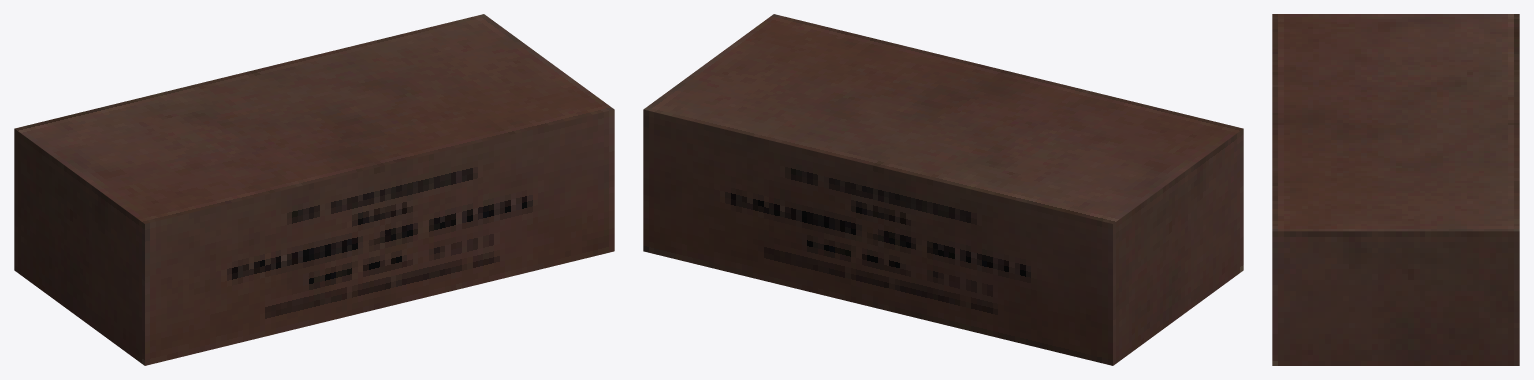
Rendered from ammo_box_mp_1_1.glb.
3 renders of one model, left to right at view 1: azimuth 30°, elevation 25°; view 2: azimuth 150°, elevation 25°; view 3: azimuth 270°, elevation 25°, orthographic. The views are drawn at different scales.
Visible parts, largest first — view 1: ammo_box_mp_1_1; view 2: ammo_box_mp_1_1; view 3: ammo_box_mp_1_1.
Part boxes in pixels (x1,y1,x2,y2): ammo_box_mp_1_1: (14,14,614,365); ammo_box_mp_1_1: (643,14,1243,365); ammo_box_mp_1_1: (1272,14,1519,365).
Size of the model in its own units: 0.1559 by 0.045 by 0.075.
Materials: 1 (1 with a texture image).
